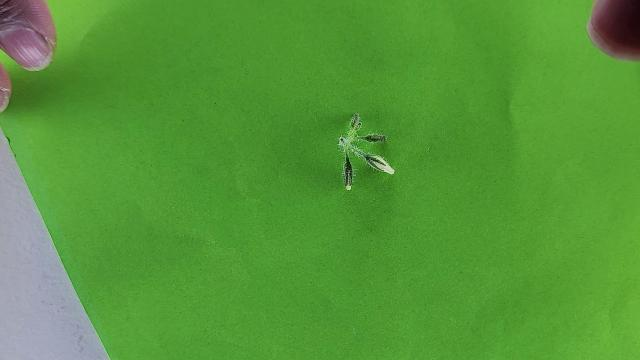Flower Bud: (364, 154, 394, 175), (343, 157, 353, 189), (357, 134, 388, 142)
